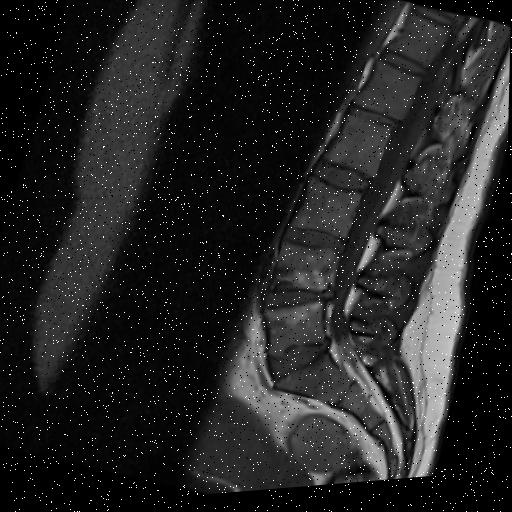L1: (354, 66, 421, 127)
L2: (324, 120, 391, 184)
L3: (292, 181, 362, 244)
L4: (273, 248, 336, 295)
L5: (264, 308, 327, 362)
S1: (274, 358, 353, 411)
